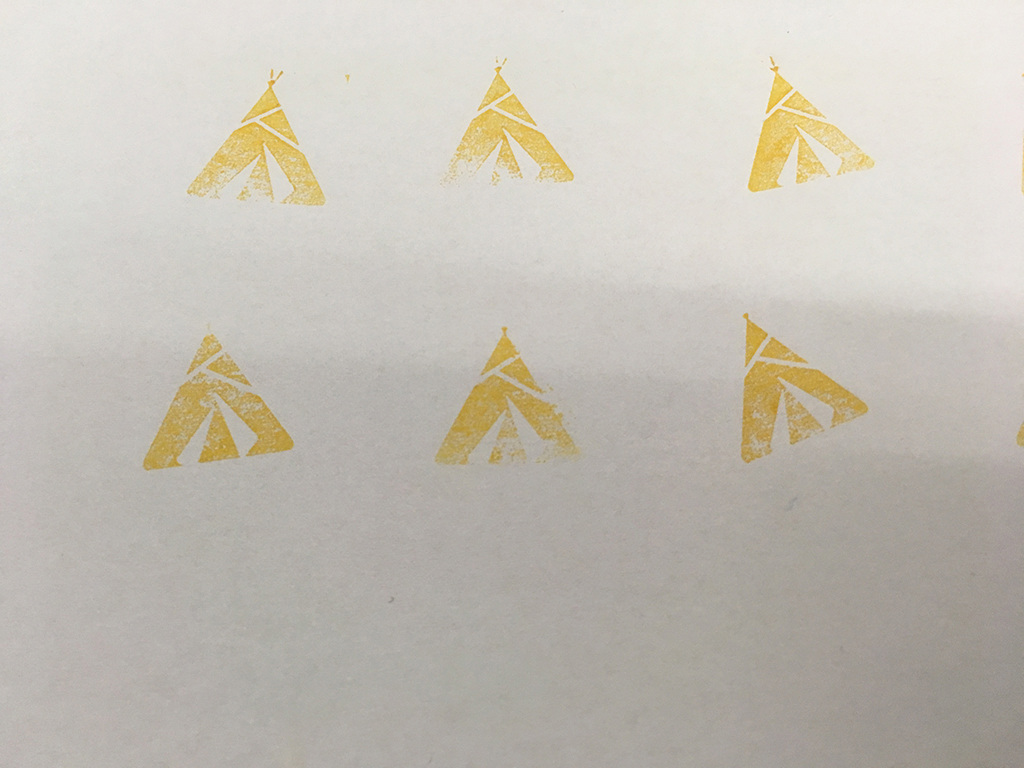tent: (142, 314, 301, 477), (423, 321, 587, 472), (733, 303, 877, 473), (427, 52, 589, 199), (182, 61, 335, 216), (739, 50, 880, 206)
